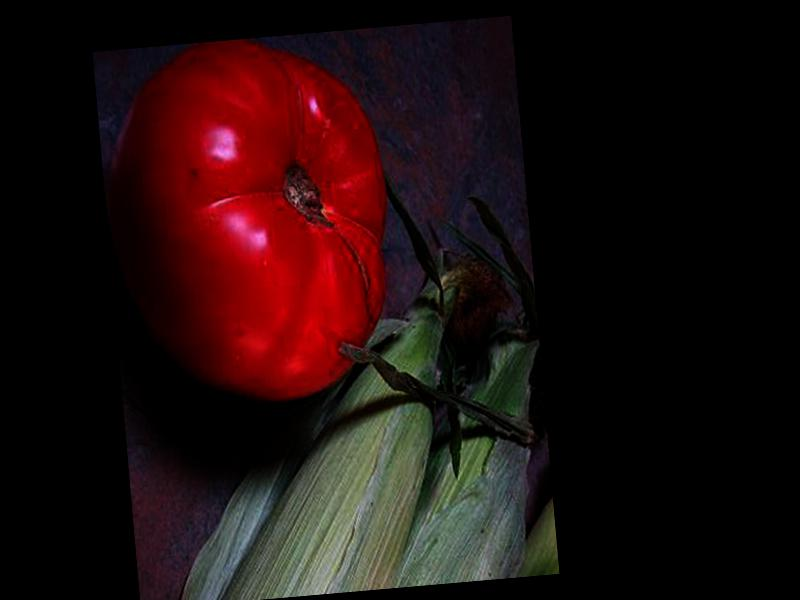Tomato: (96, 31, 403, 413)
